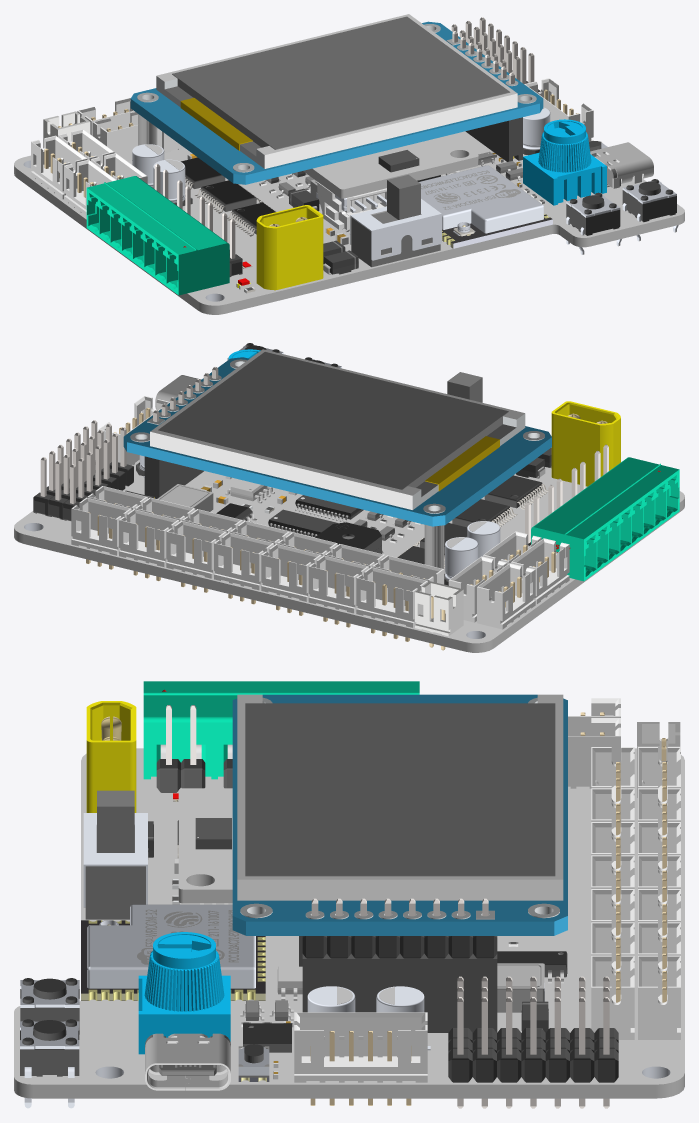
Rendered from PT-BOT_Atom_VX.glb.
The picture shows the model from 3 angles, top to bottom: view 1: azimuth 30°, elevation 25°; view 2: azimuth 150°, elevation 25°; view 3: azimuth 270°, elevation 25°; orthographic projection. The views are drawn at different scales.
Visible parts, largest first — view 1: 1.8_inches_128x160_RGB_TFT_LCD, PTBOT_ESP32_Board, Body1 (×7), 15EDGRC-3.5-08P-14-00AH, JST-B4B-PH-K-S (×6), Body2 (×6), SS12D10, Body110, PT-BOT IMU X9 PCB, Motor Driver (×3), Body4, JST-B6B-PH-K-S (+5 smaller); view 2: 1.8_inches_128x160_RGB_TFT_LCD, JST-B3B-PH-K-S (×12), PTBOT_ESP32_Board, JST-B4B-PH-K-S (×6), 15EDGRC-3.5-08P-14-00AH, Body1 (×4), Body2 (×3), Motor Driver (×2), Body8 (×2), JST-B6B-PH-K-S, COILMX MS0420-4R7M, Body15 (+4 smaller); view 3: 1.8_inches_128x160_RGB_TFT_LCD, PTBOT_ESP32_Board, JST-B3B-PH-K-S (×12), Body1 (×8), Body2 (×7), 15EDGRC-3.5-08P-14-00AH, JST-B6B-PH-K-S, Body110, Body8 (×3), SS12D10, JST-B4B-PH-K-S (×4), PT-BOT IMU X9 PCB (+12 smaller).
Part boxes in pixels (left/top/right/bottom): 1.8_inches_128x160_RGB_TFT_LCD: left=130, top=14, right=543, bottom=184; PTBOT_ESP32_Board: left=14, top=131, right=684, bottom=314; Body1 (×7): left=43, top=111, right=678, bottom=290; 15EDGRC-3.5-08P-14-00AH: left=86, top=176, right=229, bottom=295; JST-B4B-PH-K-S (×6): left=31, top=97, right=161, bottom=216; Body2 (×6): left=132, top=107, right=676, bottom=217; SS12D10: left=350, top=174, right=441, bottom=267; Body110: left=419, top=165, right=543, bottom=233; PT-BOT IMU X9 PCB: left=303, top=135, right=478, bottom=198; Motor Driver (×3): left=181, top=157, right=275, bottom=236; Body4: left=590, top=142, right=653, bottom=188; JST-B6B-PH-K-S: left=524, top=78, right=593, bottom=141; 1.8_inches_128x160_RGB_TFT_LCD: left=123, top=349, right=551, bottom=526; JST-B3B-PH-K-S (×12): left=71, top=486, right=384, bottom=627; PTBOT_ESP32_Board: left=14, top=460, right=684, bottom=652; JST-B4B-PH-K-S (×6): left=356, top=531, right=569, bottom=641; 15EDGRC-3.5-08P-14-00AH: left=531, top=457, right=679, bottom=581; Body1 (×4): left=268, top=401, right=620, bottom=636; Body2 (×3): left=315, top=521, right=500, bottom=580; Motor Driver (×2): left=452, top=475, right=548, bottom=526; Body8 (×2): left=48, top=462, right=133, bottom=520; JST-B6B-PH-K-S: left=98, top=396, right=169, bottom=465; COILMX MS0420-4R7M: left=157, top=484, right=213, bottom=511; Body15: left=144, top=456, right=167, bottom=498; 1.8_inches_128x160_RGB_TFT_LCD: left=232, top=694, right=567, bottom=935; PTBOT_ESP32_Board: left=14, top=748, right=684, bottom=1098; JST-B3B-PH-K-S (×12): left=591, top=788, right=680, bottom=1039; Body1 (×8): left=20, top=701, right=680, bottom=1108; Body2 (×7): left=20, top=759, right=424, bottom=1054; 15EDGRC-3.5-08P-14-00AH: left=143, top=681, right=419, bottom=779; JST-B6B-PH-K-S: left=294, top=1012, right=427, bottom=1105; Body110: left=87, top=904, right=255, bottom=988; Body8 (×3): left=448, top=1028, right=618, bottom=1082; SS12D10: left=83, top=790, right=147, bottom=919; JST-B4B-PH-K-S (×4): left=568, top=698, right=680, bottom=805; PT-BOT IMU X9 PCB: left=178, top=788, right=232, bottom=903.
Bounding box in the file's own units: 0.086 × 0.0194 × 0.07.
